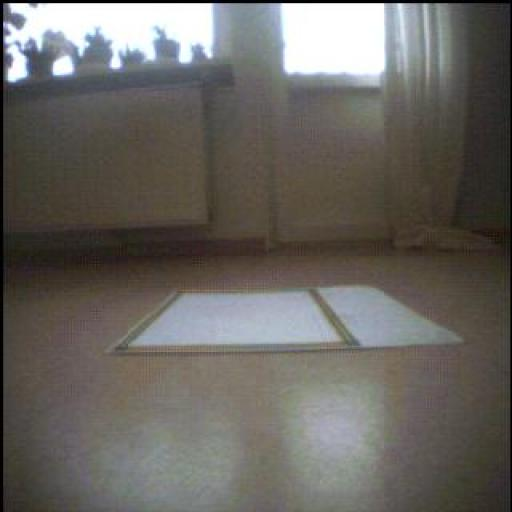Pad: (112, 288, 464, 355)
